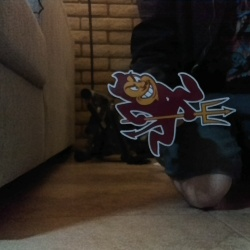sparky: (106, 68, 236, 156)
